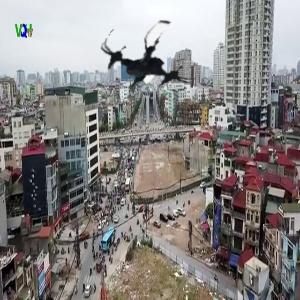drone: (102, 13, 197, 108)
